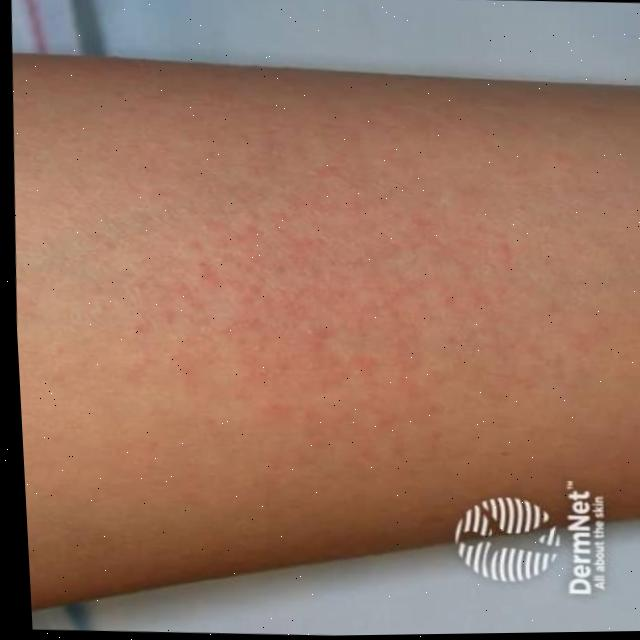Eczema: (120, 91, 561, 528)
